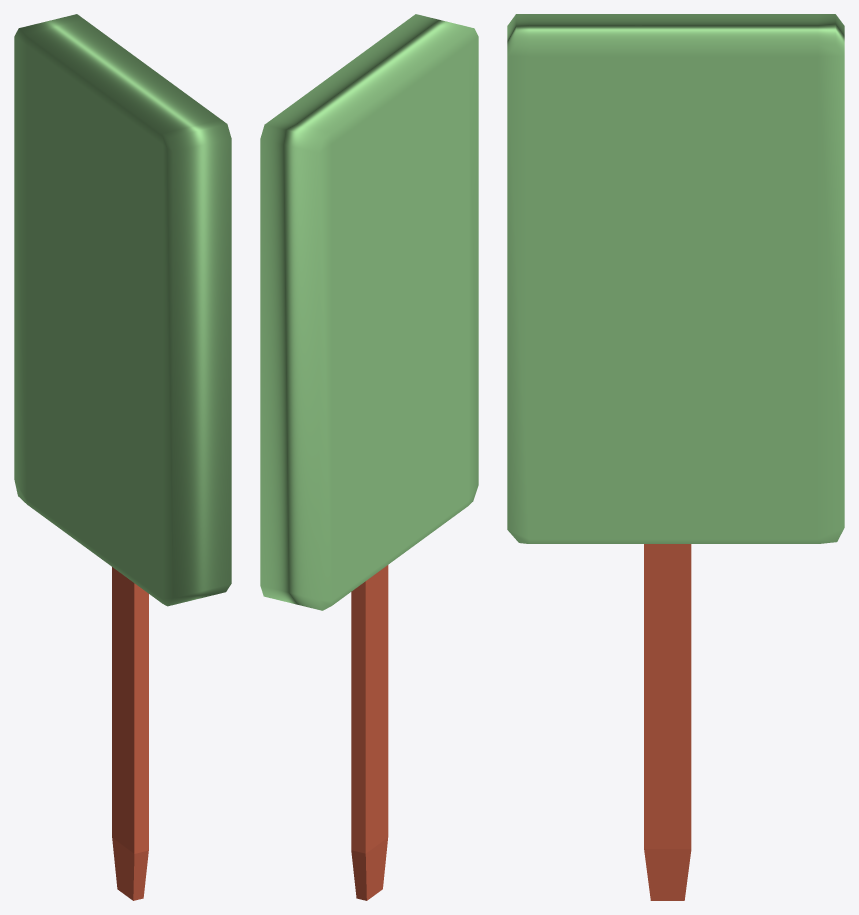
Rendered from IceCandy.gltf.
The picture shows the model from 3 angles, left to right: view 1: azimuth 30°, elevation 25°; view 2: azimuth 150°, elevation 25°; view 3: azimuth 270°, elevation 25°; orthographic projection. The views are drawn at different scales.
Visible parts, largest first — view 1: Cube.001, Cube.002; view 2: Cube.001, Cube.002; view 3: Cube.001, Cube.002.
Boxes of the visible parts, box(x1,y1,x2,y2) form: Cube.001: box(14, 14, 231, 606); Cube.002: box(112, 567, 148, 900); Cube.001: box(260, 14, 478, 610); Cube.002: box(351, 565, 388, 900); Cube.001: box(507, 14, 844, 543); Cube.002: box(644, 544, 691, 900).
Bounding box in the file's own units: 0.4255 × 5.68 × 2.
